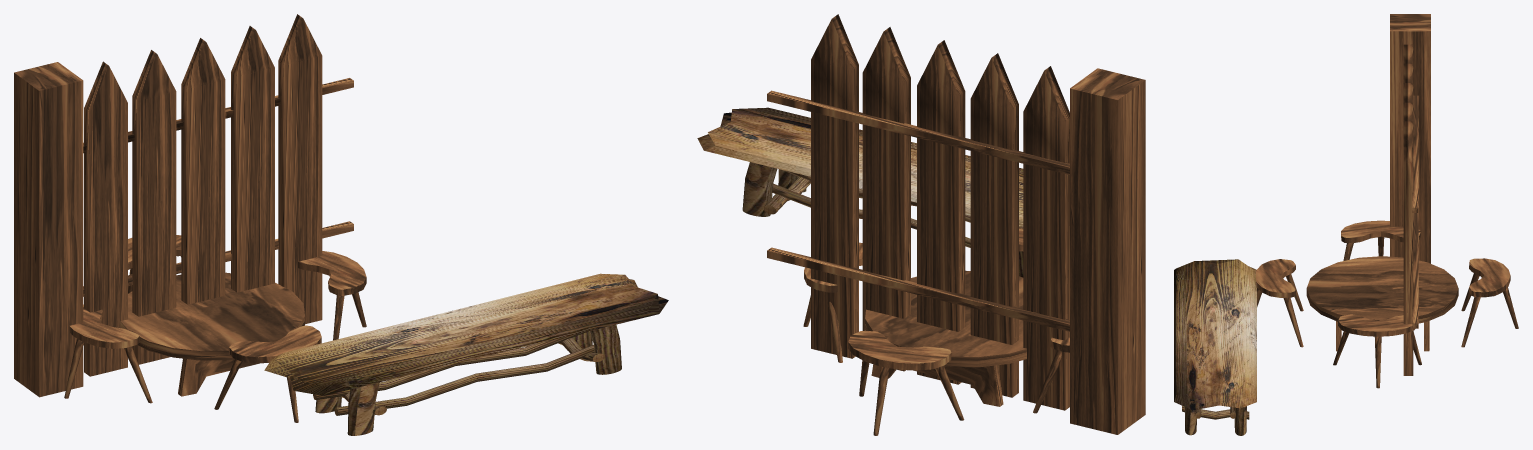
Rendered from Bench - type 1.fbx.
3 renders of one model, left to right at view 1: azimuth 30°, elevation 25°; view 2: azimuth 150°, elevation 25°; view 3: azimuth 270°, elevation 25°, orthographic. The views are drawn at different scales.
Parts seen in each view (by area): view 1: pCube18, peika_bez_oblegalka, pCube5, Wooden_Table, Wooden_Chair3, Wooden_Chair2, Wooden_Chair4; view 2: pCube18, pCube5, peika_bez_oblegalka, Wooden_Table, Wooden_Chair, Wooden_Chair4, Wooden_Chair3; view 3: peika_bez_oblegalka, Wooden_Table, pCube5, pCube18, Wooden_Chair, Wooden_Chair4, Wooden_Chair2, Wooden_Chair3.
Part boxes in pixels (bbox=[...]): pCube18: bbox=[83, 14, 353, 376]; peika_bez_oblegalka: bbox=[264, 273, 668, 435]; pCube5: bbox=[14, 62, 83, 397]; Wooden_Table: bbox=[120, 272, 304, 396]; Wooden_Chair3: bbox=[64, 304, 152, 403]; Wooden_Chair2: bbox=[214, 325, 321, 422]; Wooden_Chair4: bbox=[298, 251, 366, 340]; pCube18: bbox=[767, 14, 1069, 410]; pCube5: bbox=[1070, 68, 1145, 434]; peika_bez_oblegalka: bbox=[697, 107, 1023, 277]; Wooden_Table: bbox=[865, 270, 1026, 406]; Wooden_Chair: bbox=[848, 330, 964, 435]; Wooden_Chair4: bbox=[803, 242, 862, 362]; Wooden_Chair3: bbox=[1033, 337, 1069, 413]; peika_bez_oblegalka: bbox=[1174, 259, 1256, 435]; Wooden_Table: bbox=[1306, 256, 1458, 351]; pCube5: bbox=[1390, 14, 1430, 263]; pCube18: bbox=[1403, 44, 1418, 375]; Wooden_Chair: bbox=[1461, 258, 1518, 347]; Wooden_Chair4: bbox=[1333, 314, 1421, 388]; Wooden_Chair2: bbox=[1256, 259, 1303, 347]; Wooden_Chair3: bbox=[1341, 220, 1420, 260].
Size of the model in its own units: 623 by 361 by 454.
2 materials, 2 textured.
